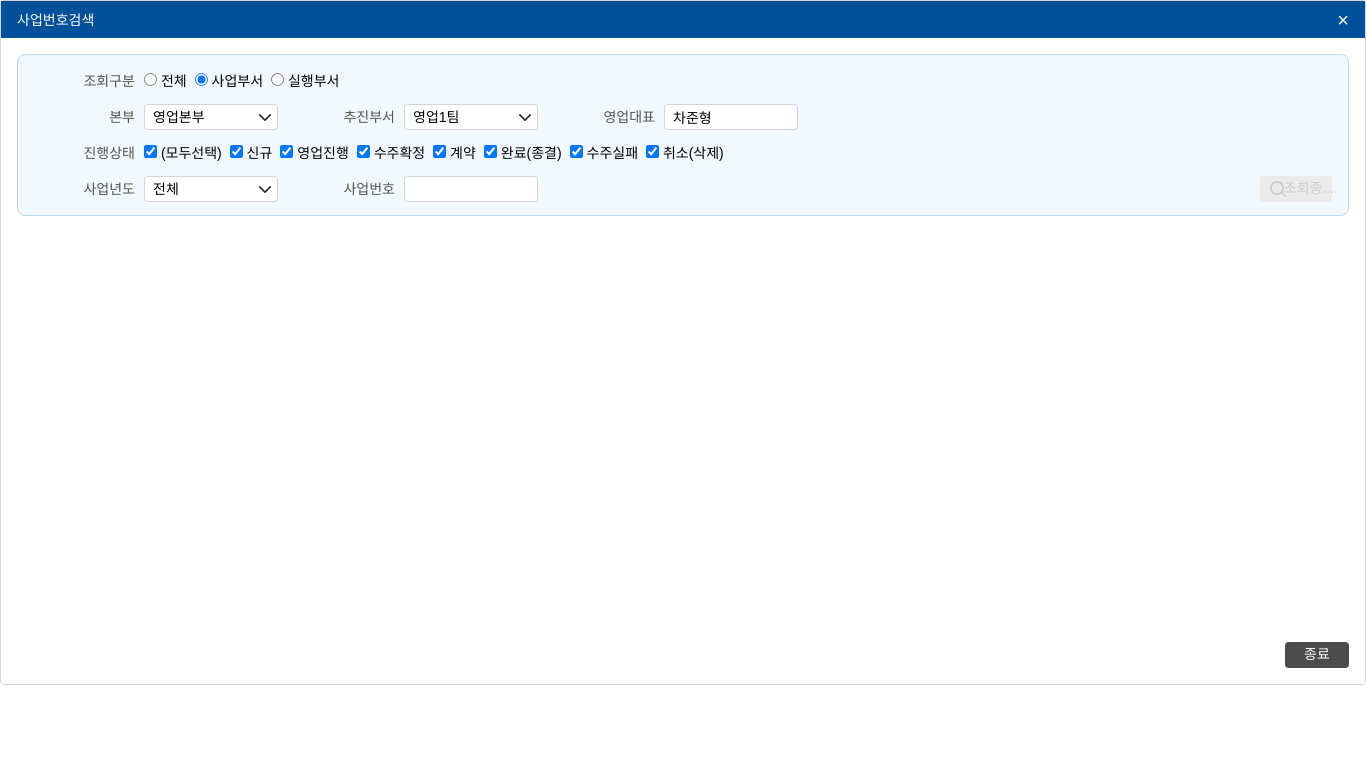
Test: COMZ040P00 - 사업번호검색화면 테스트 › 조회구분 변경 시 관련 필드들이 올바르게 업데이트된다
Step 1. Click the radio button labelled "전체" → point(150, 80), box [144,73,157,86]
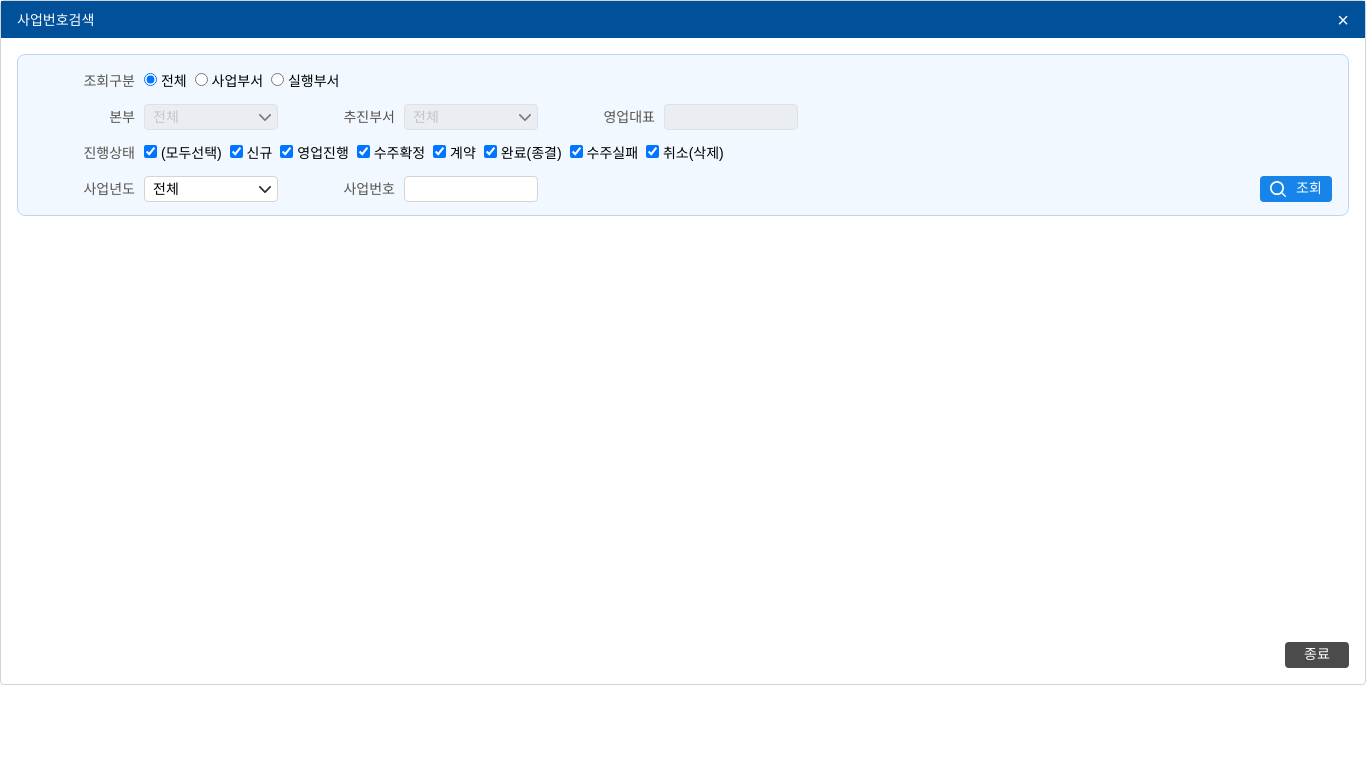
Check: the 1st dropdown showing "전체" is disabled, box [144,104,278,130]
Note:  사업부서 선택
Step 2. Click the radio button labelled "사업부서" → point(201, 80), box [195,73,208,86]
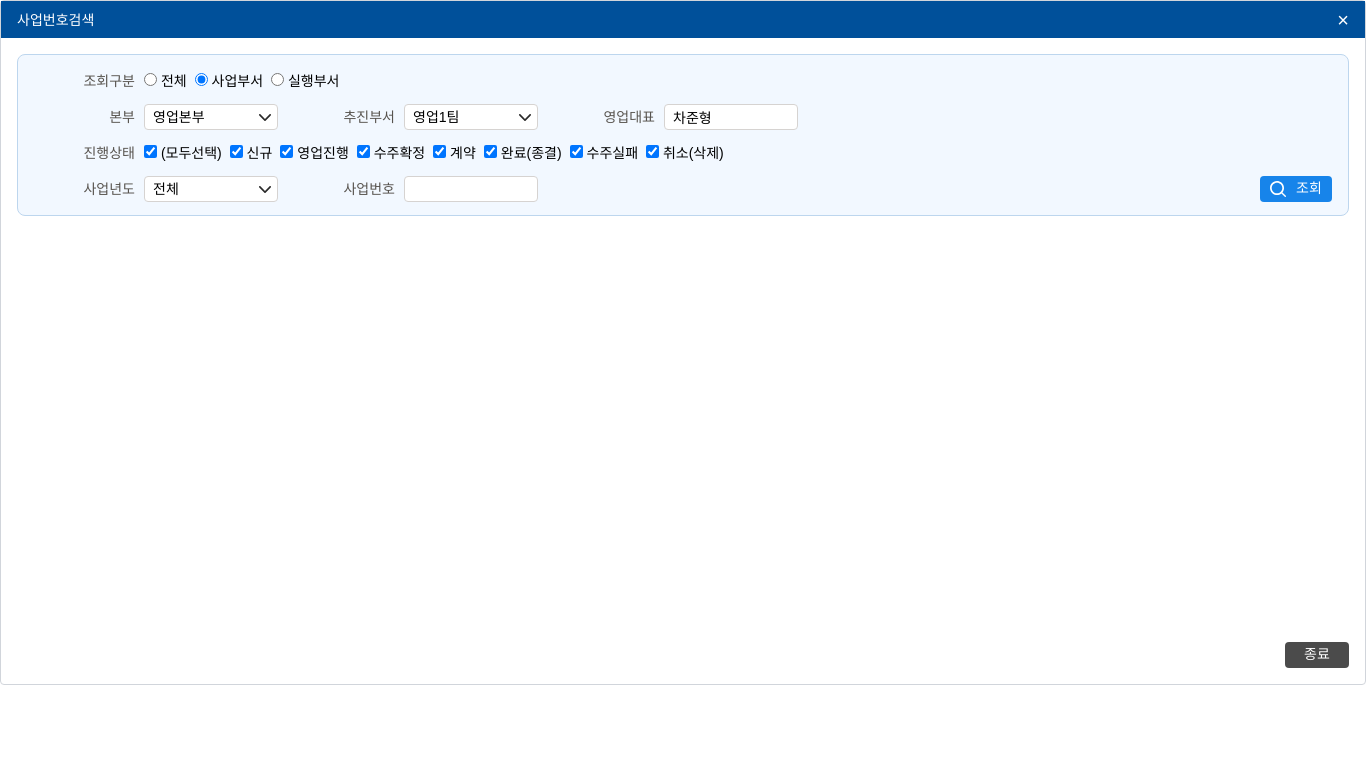
Check: the 1st dropdown showing "영업본부" is enabled, box [144,104,278,130]
